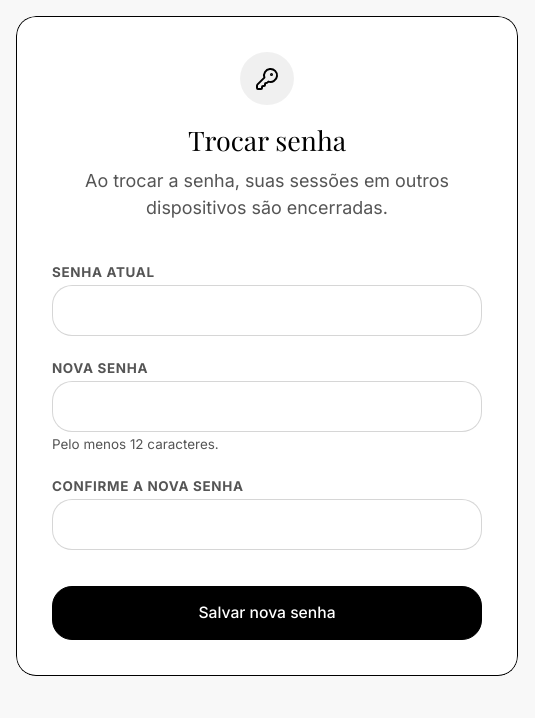
Test case: ChangePasswordForm › validação local antes de enviar (senha-bem-longa-1)
Type "atual-qualquer" into the password field labelled "Senha atual" at (267, 310), box left=52, top=285, right=482, bottom=336
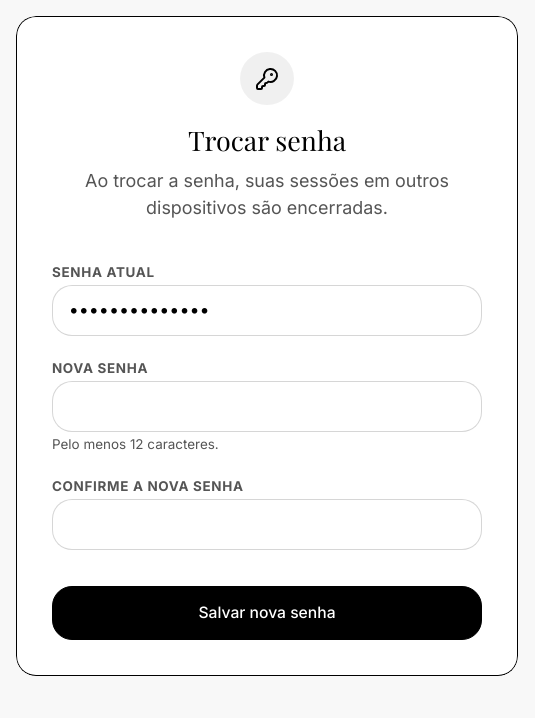
Type "senha-bem-longa-1" into the password field labelled "Nova senha" at (267, 406), box left=52, top=381, right=482, bottom=432
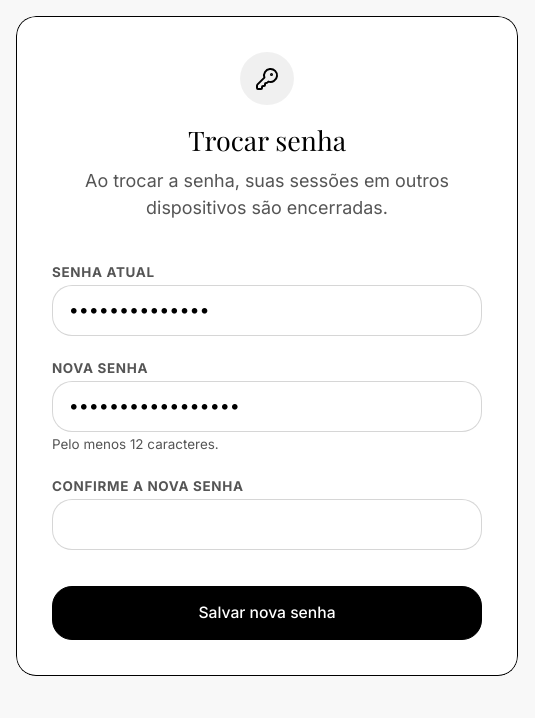
Type "senha-bem-longa-2" into the password field labelled "Confirme a nova senha" at (267, 525), box left=52, top=499, right=482, bottom=550
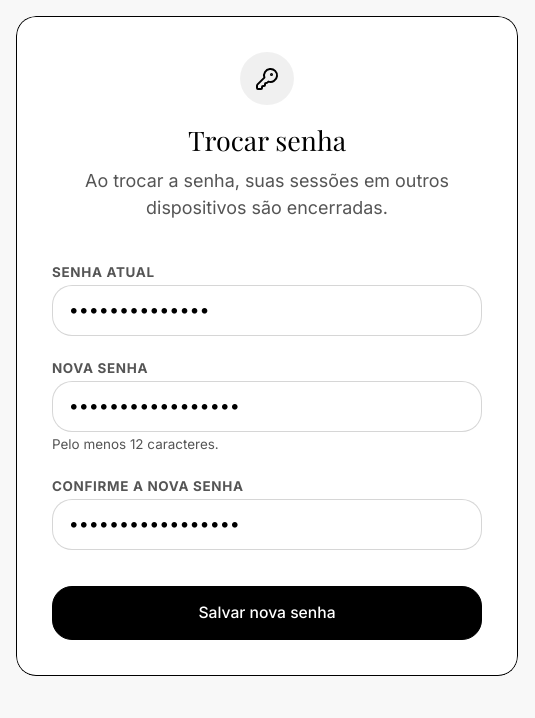
Click the button "Salvar nova senha" at (267, 613), box left=52, top=586, right=482, bottom=640
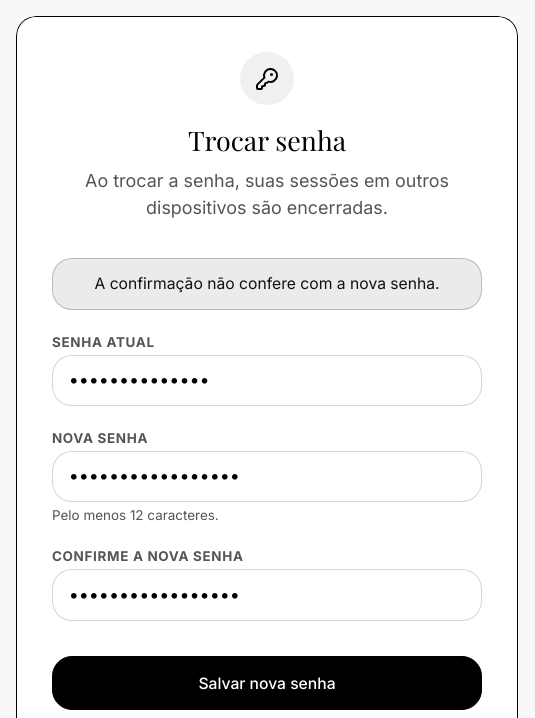
Now the message shows "A confirmação não confere", box left=94, top=274, right=440, bottom=293
